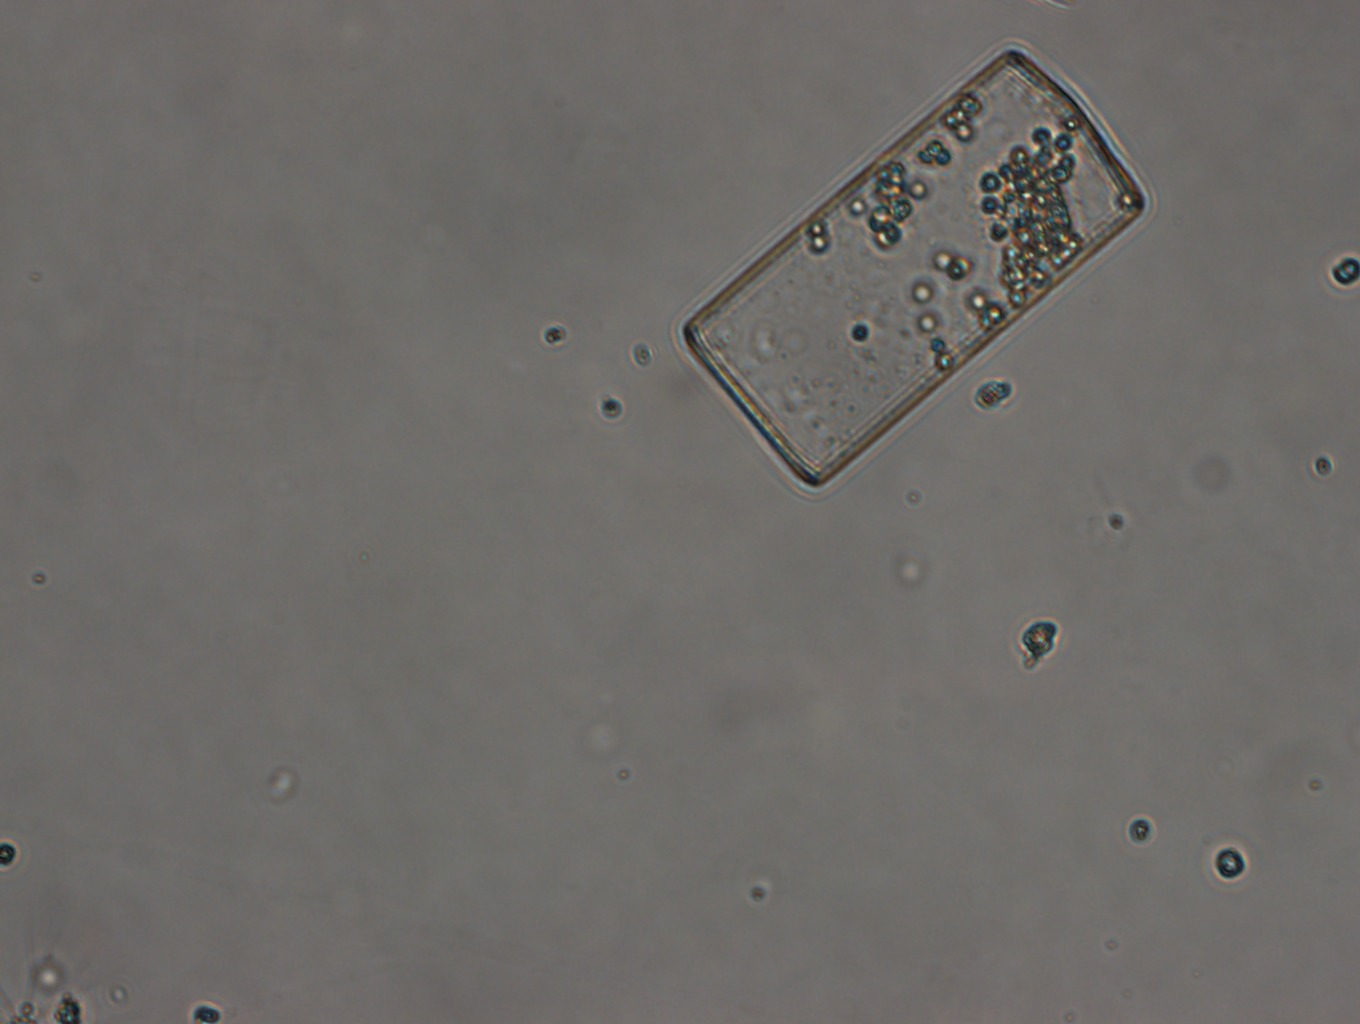guinardia flaccida: (669, 33, 1154, 498)
